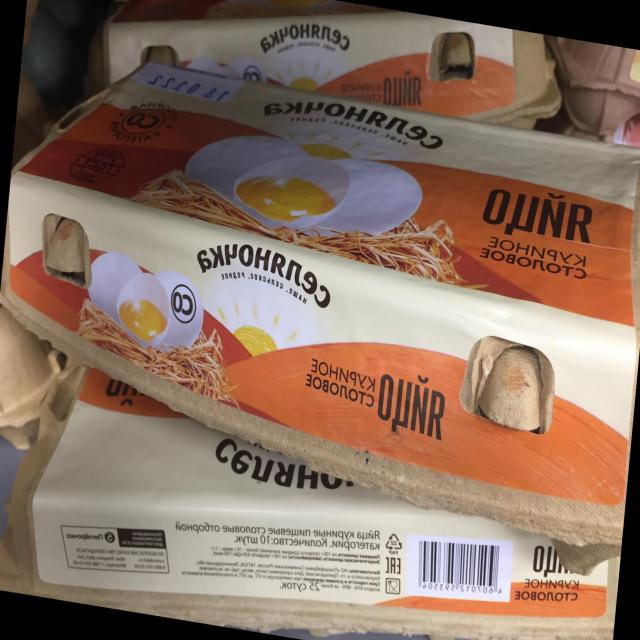organic waste: (0, 49, 640, 551), (79, 0, 562, 141), (540, 35, 640, 150)
